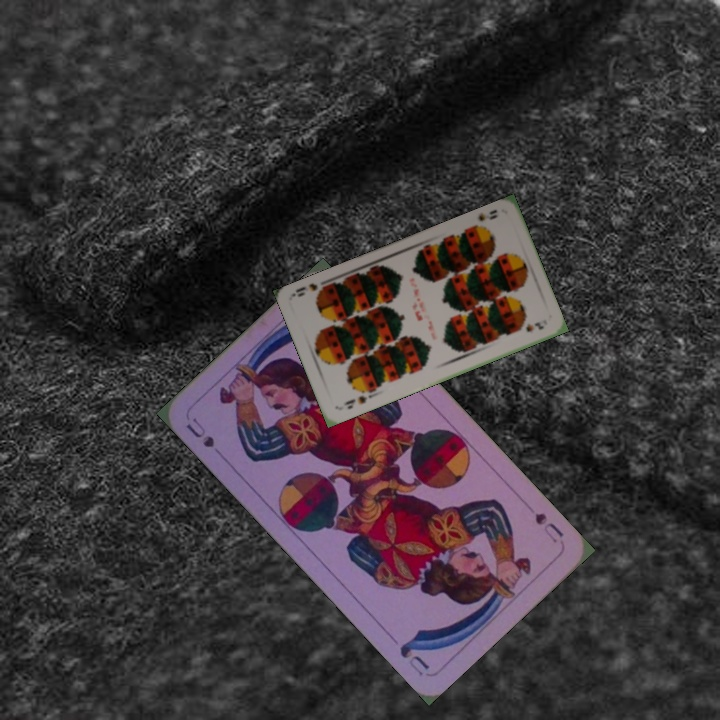S9: (466, 205, 500, 230), (339, 391, 370, 412)
SU: (181, 414, 217, 451), (531, 508, 566, 546)
